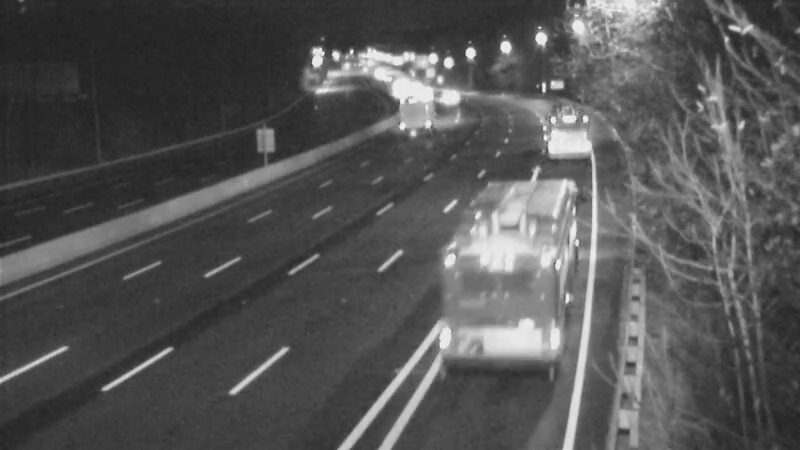vehicle: (463, 232, 543, 312), (377, 69, 427, 119), (396, 73, 446, 123), (422, 71, 472, 121), (531, 95, 581, 145), (389, 80, 439, 130)
